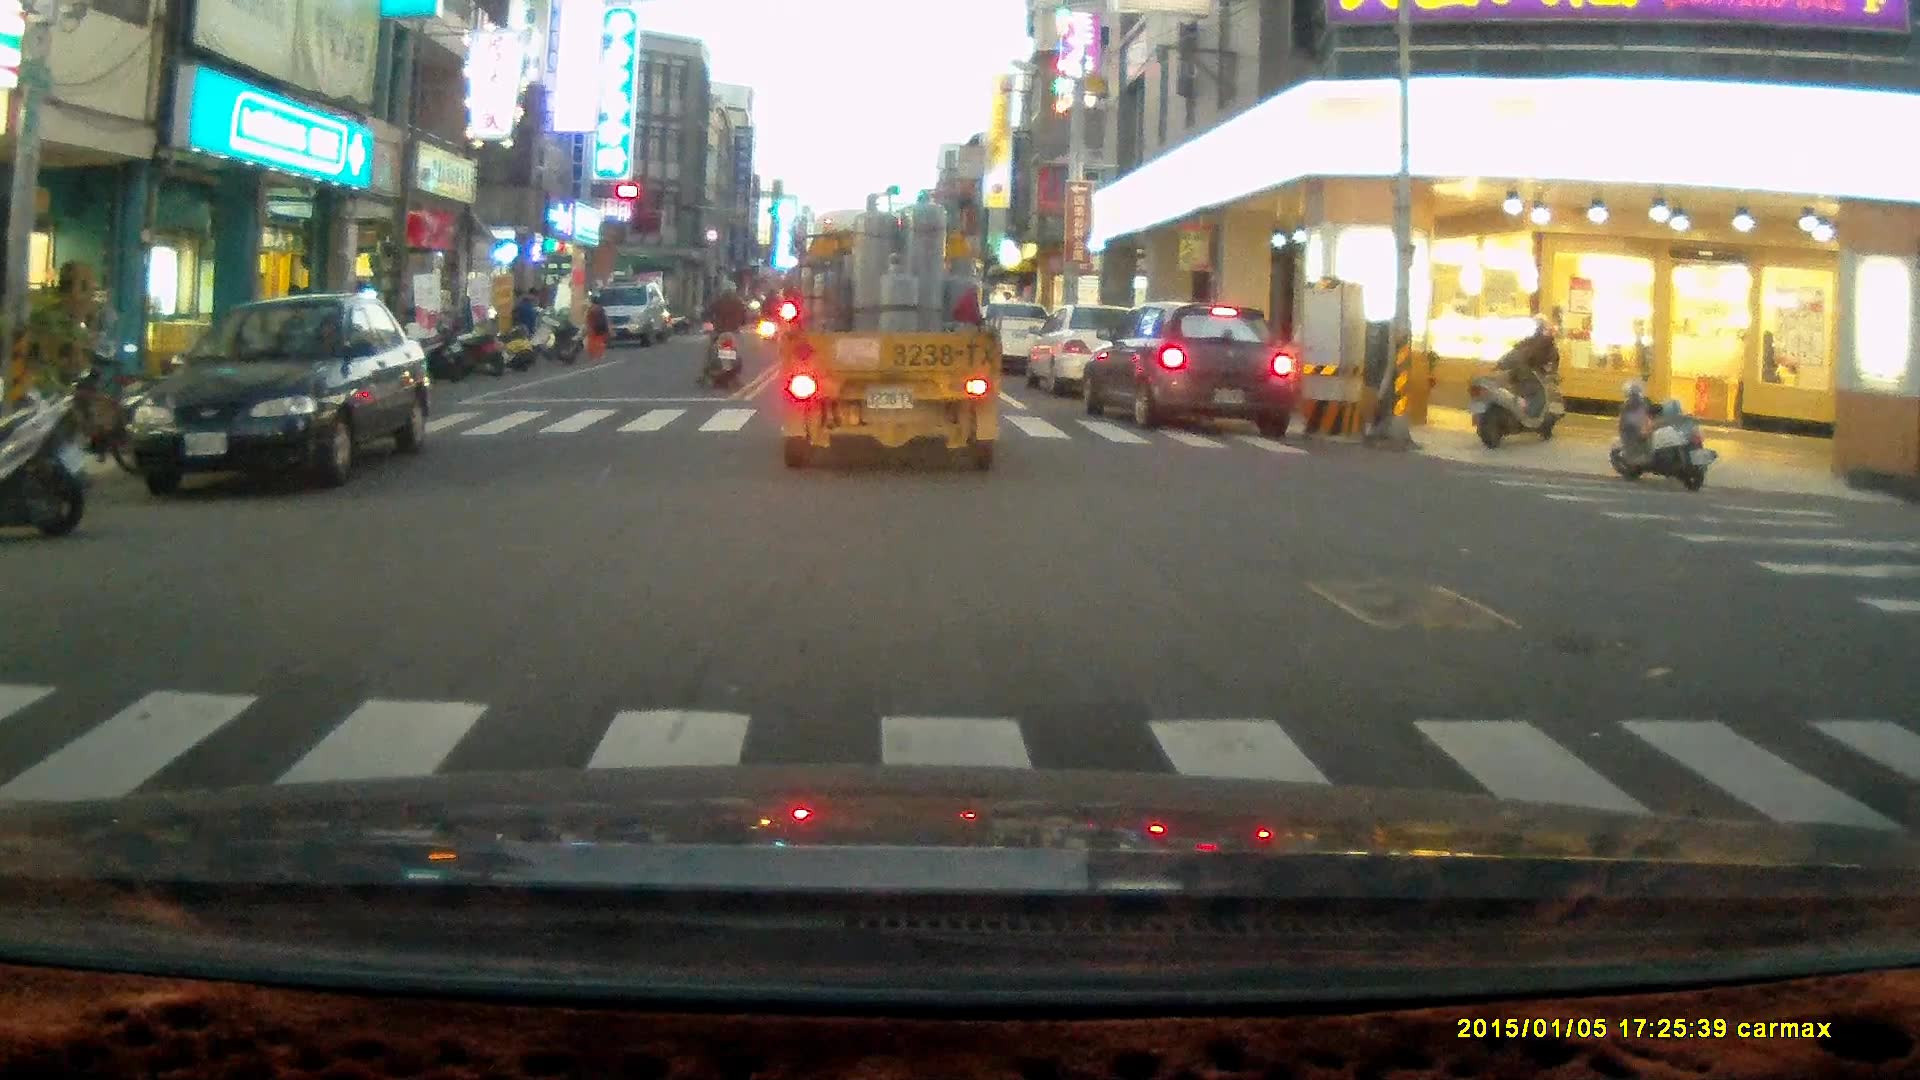pedestrian: (512, 284, 542, 358), (587, 294, 608, 360)
rider: (1498, 310, 1566, 442), (695, 276, 747, 394)
vehicle: (778, 188, 1002, 476), (127, 291, 432, 499), (1075, 306, 1307, 433), (1030, 306, 1158, 399), (593, 281, 677, 347)
